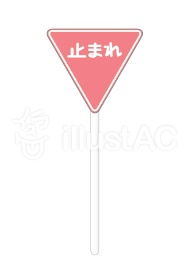Regulatory_sign_triangle: (44, 27, 147, 112)
